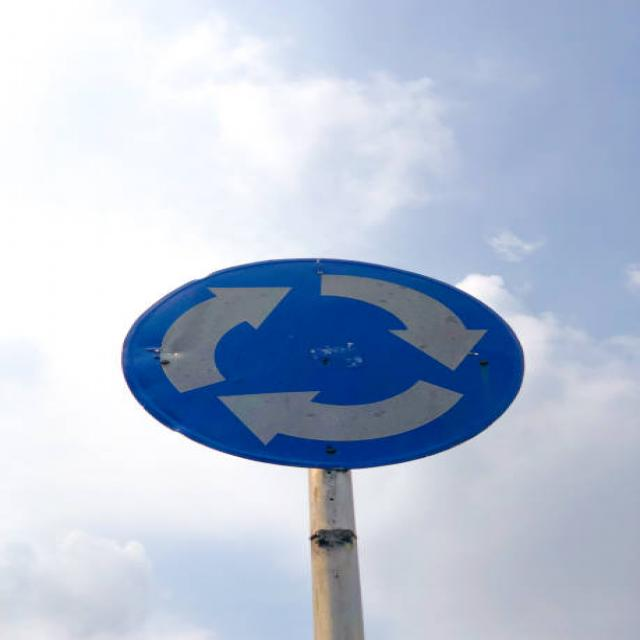round_about: (116, 252, 550, 473)
